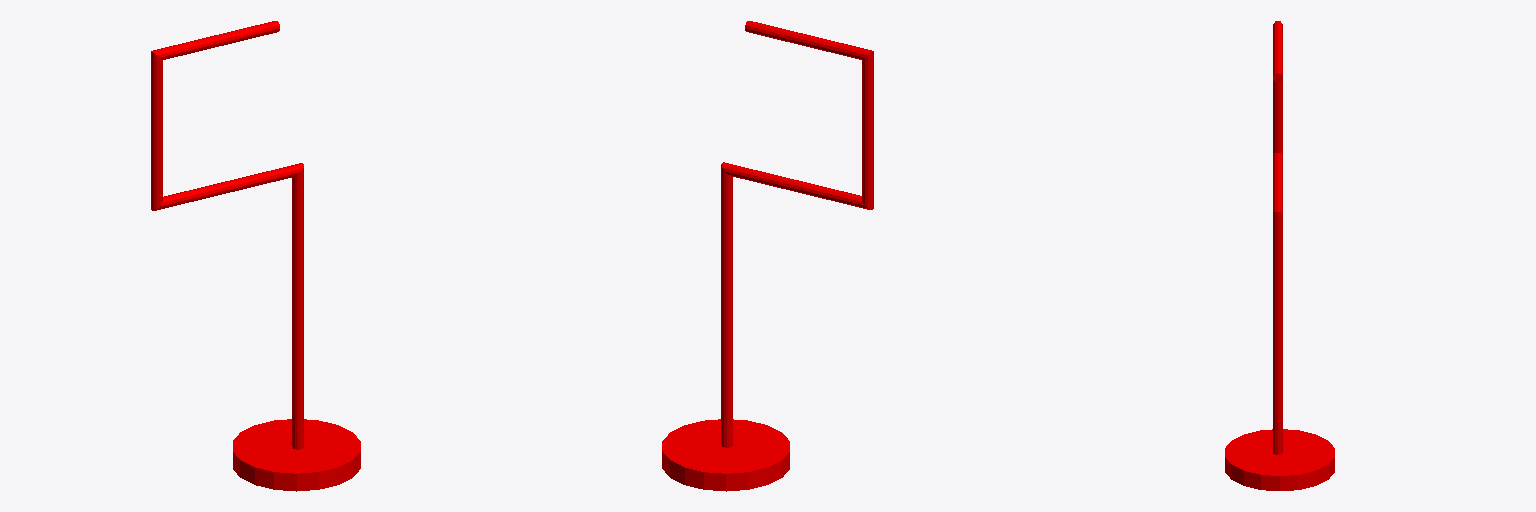
The robot description file, URDF, robot "ring":
<?xml version="0.0" ?>
<robot name="ring">
    <material name="white">
        <color rgba="1 0 0 1"/>
    </material>

    <link name="baseLink">
        <!-- from lego/lego.urdf -->
        <contact>
            <lateral_friction value="1.0"/>
            <rolling_friction value="0.0"/>
            <contact_cfm value="0.0"/>
            <contact_erp value="1.0"/>
        </contact>
        <inertial>
            <origin rpy="0 0 0" xyz="0 0 0"/>
            <mass value="0.01"/>
            <inertia ixx="1" ixy="0" ixz="0" iyy="1" iyz="0" izz="1"/>
        </inertial>
        <visual>
            <origin rpy="1.57 0 0" xyz="0 0 0"/>
            <geometry>
                <!--        radius: 10mm, depth: 14.5mm-->
                <mesh filename="meshes/c.obj" scale="1 1 1"/>
                <!--        <box size="0.002 0.002 0.002"/>-->
            </geometry>
            <material name="white"/>
        </visual>
        <collision >
            <origin rpy="1.57 0 0" xyz="0 0 0"/>
            <geometry>
                <mesh filename="meshes/c_vhacd.obj" scale="1 1 1"/>
                       <!-- <box size="2 2 2"/> -->
            </geometry>
        </collision>
    </link>
</robot>

--- What the picture shows (computed from the rendered views, not written in the file) ---
The picture shows the robot from 3 angles, left to right: view 1: azimuth 30°, elevation 25°; view 2: azimuth 150°, elevation 25°; view 3: azimuth 270°, elevation 25°; orthographic projection.
Robot: ring — 1 links, 0 joints (none); root link baseLink; default pose: all joints at 0.
Links seen in each view (by area): view 1: baseLink; view 2: baseLink; view 3: baseLink.
Link boxes in pixels (x1,y1,x2,y2): baseLink: (151,21,360,491); baseLink: (662,21,873,491); baseLink: (1225,21,1334,490).
Size in the robot's own frame: 0.0564 by 0.031 by 0.1196 metres.
Meshes: 1 distinct files referenced, 1 mesh visuals loaded (1 OBJ).